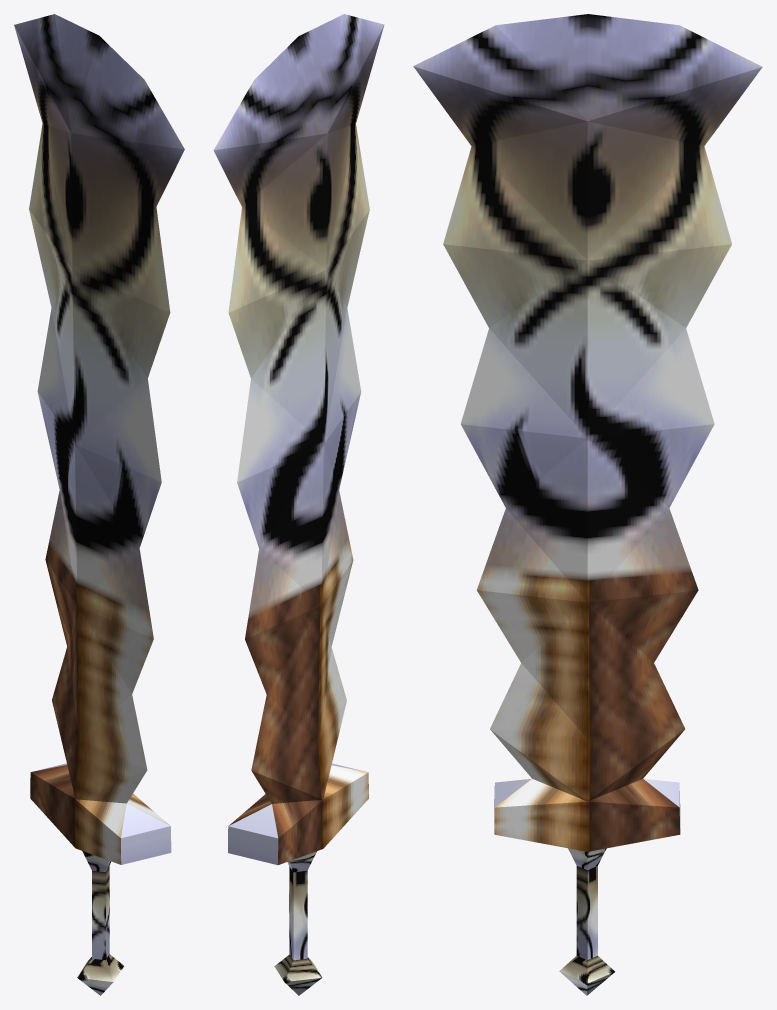
File: heavyblade04.obj
The picture shows the model from 3 angles, left to right: view 1: azimuth 30°, elevation 25°; view 2: azimuth 150°, elevation 25°; view 3: azimuth 270°, elevation 25°; orthographic projection. The views are drawn at different scales.
Visible parts, largest first — view 1: MDL_cw2hsw04; view 2: MDL_cw2hsw04; view 3: MDL_cw2hsw04.
Boxes of the visible parts, left/top/right/bottom form: MDL_cw2hsw04: left=14, top=14, right=184, bottom=995; MDL_cw2hsw04: left=213, top=14, right=384, bottom=995; MDL_cw2hsw04: left=413, top=14, right=762, bottom=995.
Size of the model in its own units: 0.1175 by 1.86 by 0.5988.
